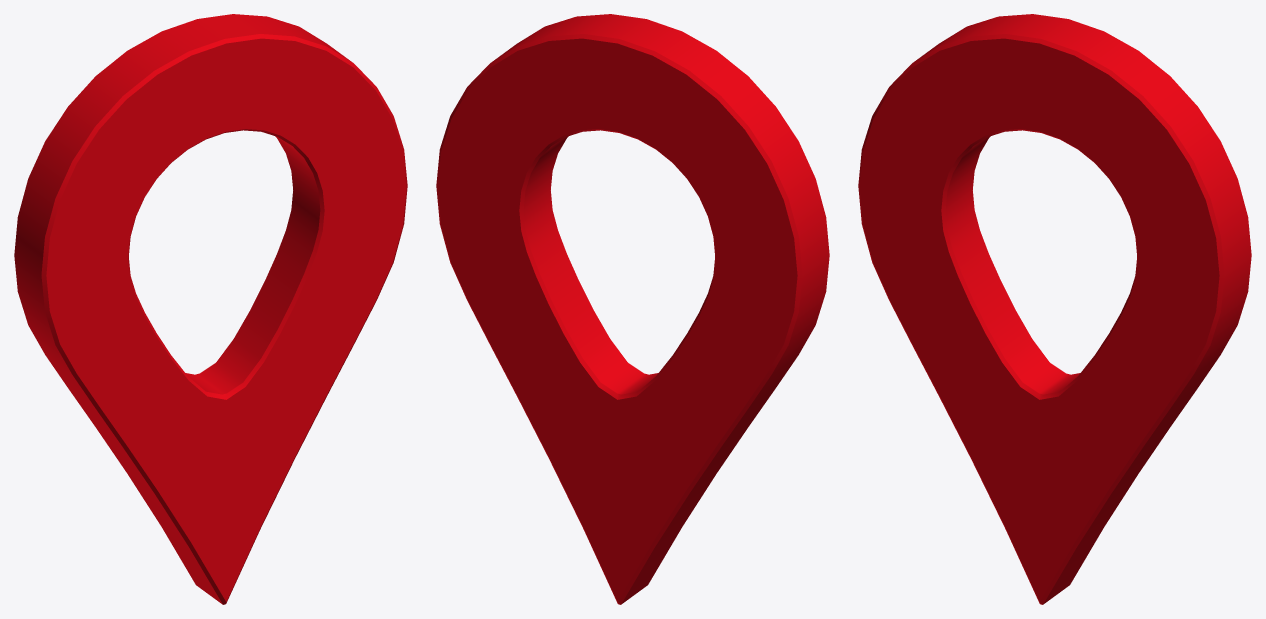
File: marcador.glb
The picture shows the model from 3 angles, left to right: view 1: azimuth 30°, elevation 25°; view 2: azimuth 150°, elevation 25°; view 3: azimuth 330°, elevation 25°; orthographic projection.
Parts seen in each view (by area): view 1: Cilindro; view 2: Cilindro; view 3: Cilindro.
Part boxes in pixels (x1,y1,x2,y2): Cilindro: [14, 14, 407, 604]; Cilindro: [436, 14, 829, 604]; Cilindro: [858, 14, 1251, 604].
Size of the model in its own units: 0.015 by 0.0221 by 0.00218.
